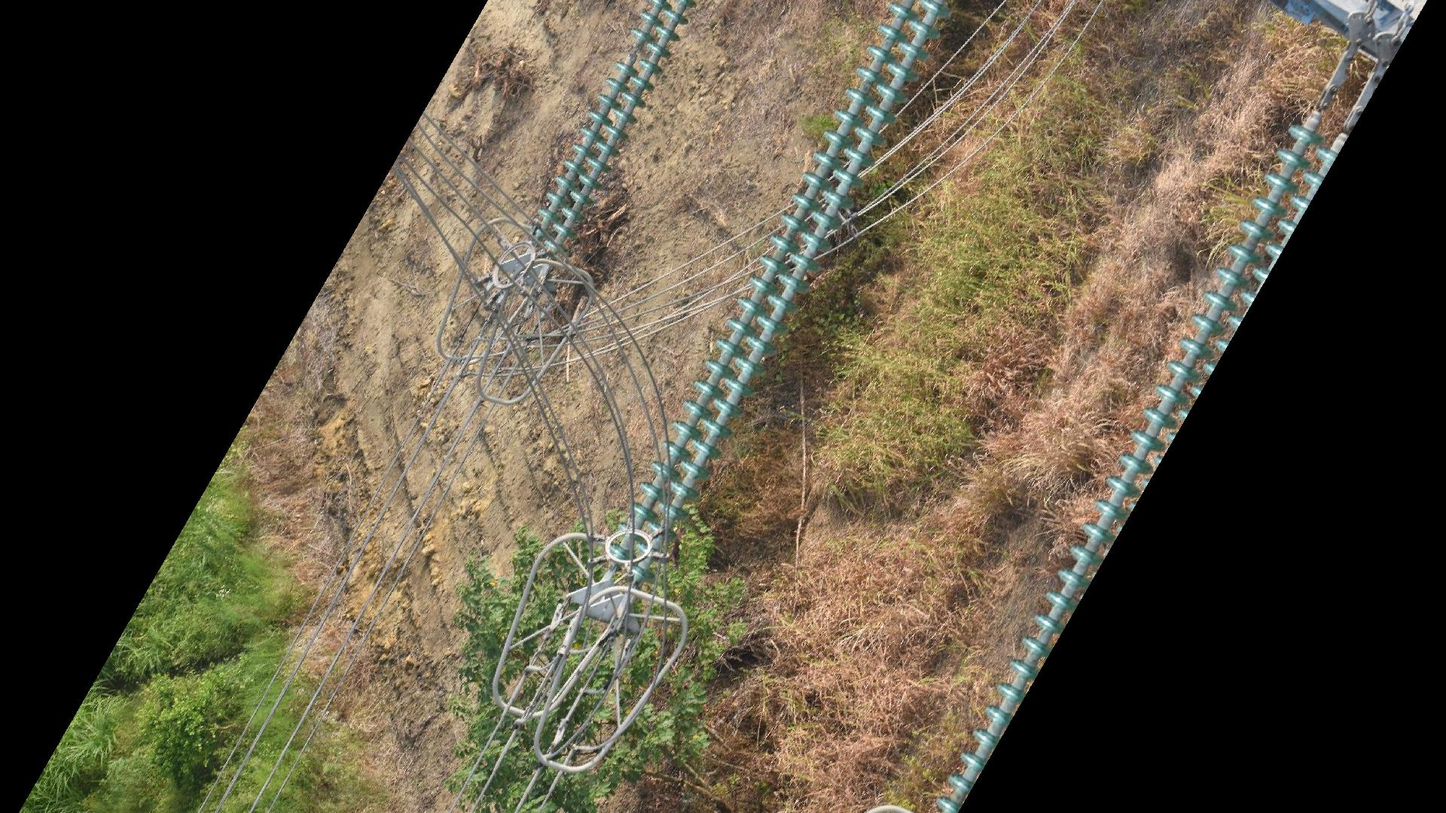insulator: (925, 118, 1344, 813), (602, 1, 953, 589), (530, 1, 701, 260)
insulator_stringdrop: (612, 26, 657, 81)
